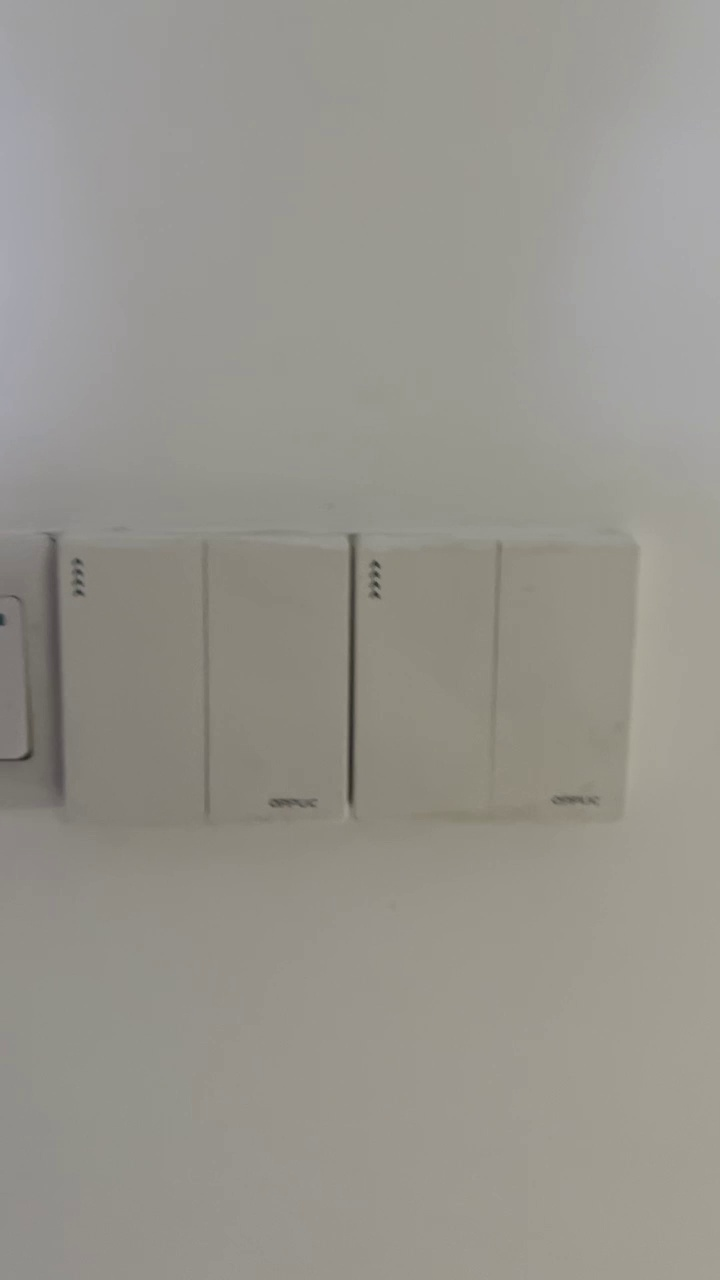button1: (205, 541, 348, 823), (62, 539, 199, 828), (356, 543, 495, 822), (504, 541, 628, 818)
